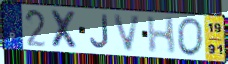2: (24, 8, 48, 48)
H: (145, 16, 177, 55)
J: (89, 14, 111, 51)
O: (175, 16, 205, 58)
V: (112, 13, 143, 53)
X: (49, 8, 81, 51)
